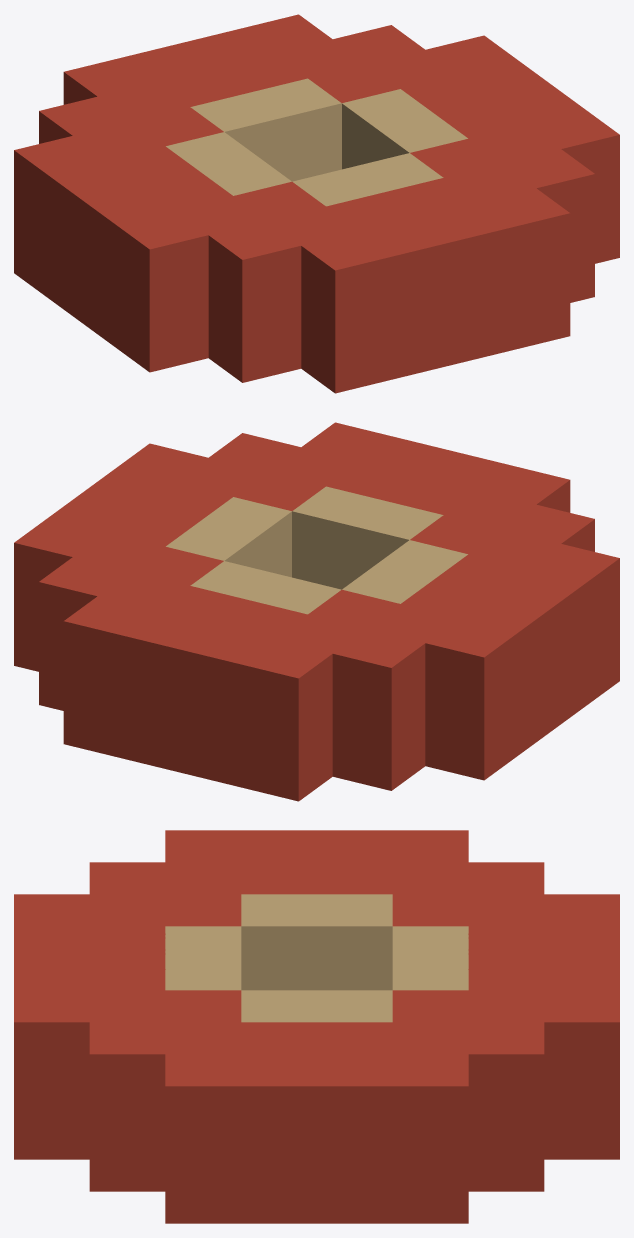
The model's file is tape_roll.glb.
3 views of the same model, one above another, from view 1: azimuth 30°, elevation 25°; view 2: azimuth 150°, elevation 25°; view 3: azimuth 270°, elevation 25° (orthographic). The views are drawn at different scales.
Parts seen in each view (by area): view 1: electrical_tape:ring; view 2: electrical_tape:ring; view 3: electrical_tape:ring.
Part boxes in pixels (x1,y1,x2,y2): electrical_tape:ring: (14, 14, 619, 393); electrical_tape:ring: (14, 422, 619, 801); electrical_tape:ring: (14, 830, 619, 1223).
Bounding box in the file's own units: 0.08 × 0.02 × 0.08.
